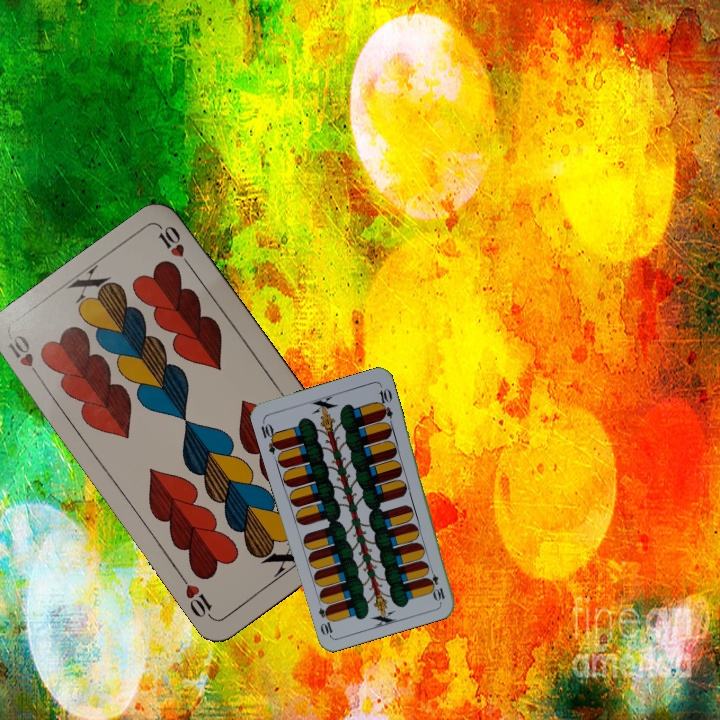E10: (257, 417, 283, 456), (424, 563, 447, 603)
H10: (4, 330, 46, 384)
